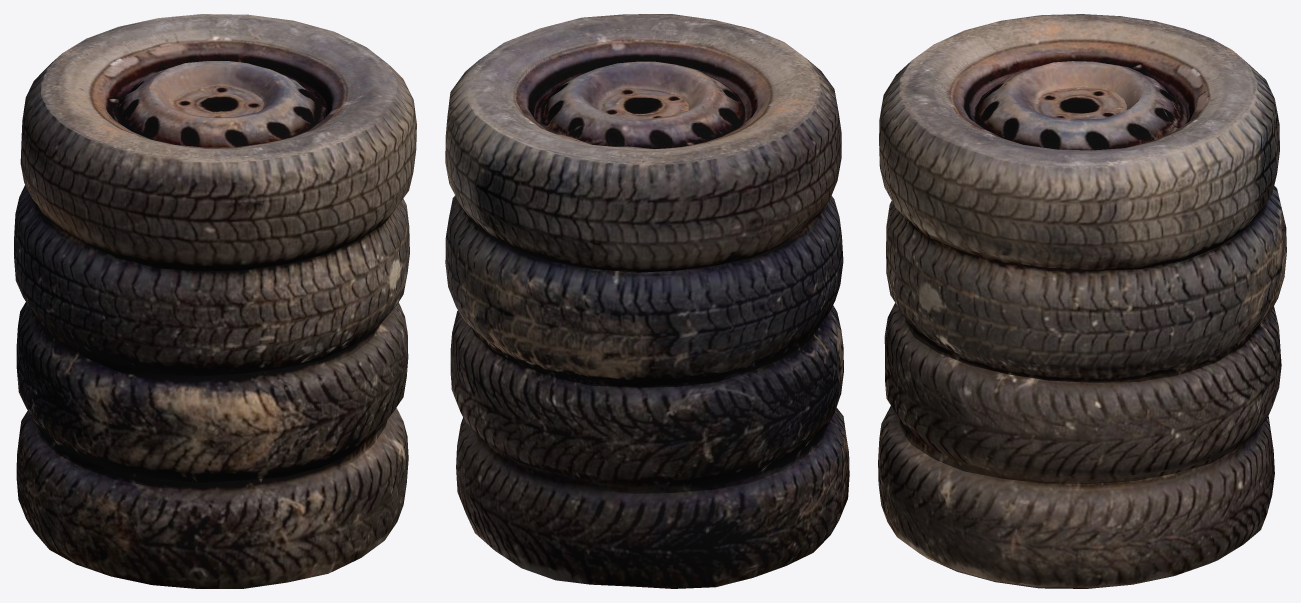
Rendered from stacked_tire_01.glb.
3 views of the same model, side by side, from view 1: azimuth 30°, elevation 25°; view 2: azimuth 150°, elevation 25°; view 3: azimuth 270°, elevation 25° (orthographic).
Parts seen in each view (by area): view 1: stacked_tire_01; view 2: stacked_tire_01; view 3: stacked_tire_01.
Boxes of the visible parts, x1,y1,x2,y2 form: stacked_tire_01: [14, 14, 416, 588]; stacked_tire_01: [445, 14, 849, 588]; stacked_tire_01: [878, 14, 1286, 588].
Size of what is drawn, in the model's own units: 0.5311 by 0.62 by 0.5304.
1 material, 1 textured.
